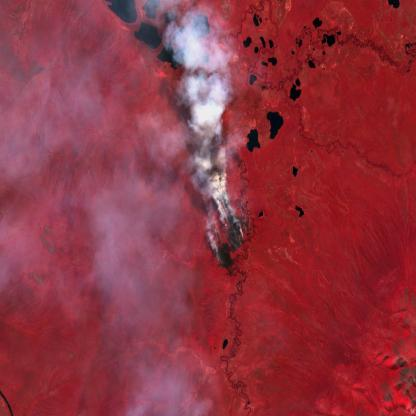fire: (206, 178, 250, 273)
